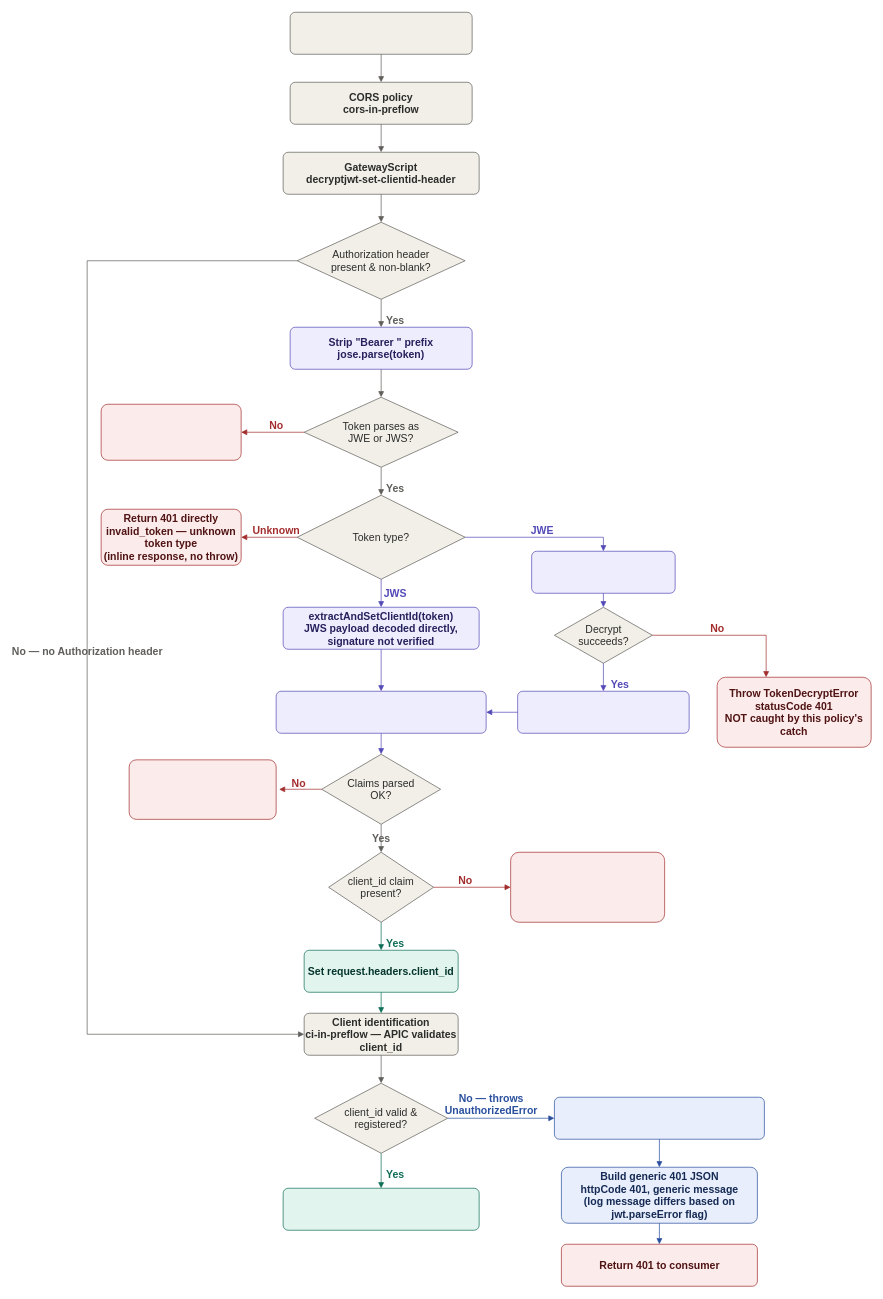
Image size: 883x1299. Some labels were removed from this diagram. The box of each missing label's shape, as (x1, y1, x2, y2) in pixels:
Catch [UnauthorizedError] override-client-id-error: (554, 1097, 764, 1139)
Consumer Calls internal API (PNC): (289, 12, 472, 54)
Continue to API assembly request proceeds to backend: (282, 1188, 479, 1230)
Decrypt JWE crypto_key_wf_jwtdecrypt: (531, 551, 675, 593)
extractAndSetClientId(plaintext): (517, 691, 689, 733)
Parse payload claims base64-decode JWS payload segment / JSON.parse: (275, 691, 486, 733)
Return 401 directly invalid_token — malformed token (inline response, no throw): (100, 404, 241, 460)
Throw ClientIdMissingError statusCode 400 NOT caught by this policy's catch: (510, 852, 665, 922)
Throw TokenParseError statusCode 400 NOT caught by this policy's catch: (128, 759, 276, 819)
